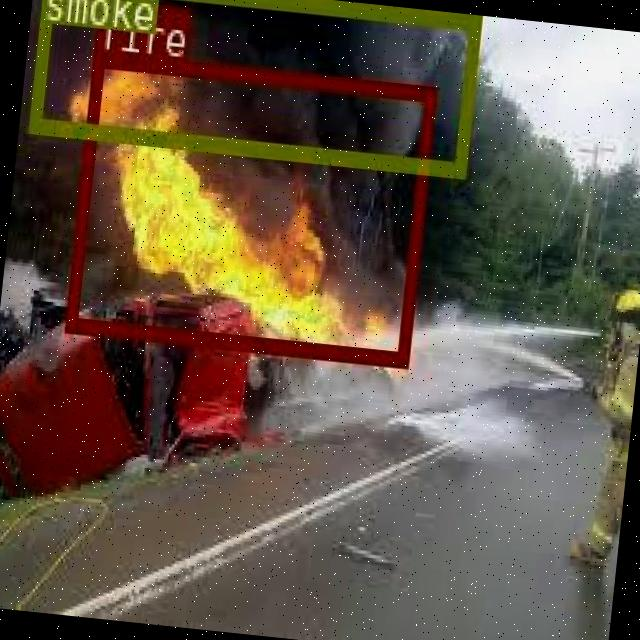fire: (63, 49, 434, 364)
smoke: (28, 0, 477, 175)
